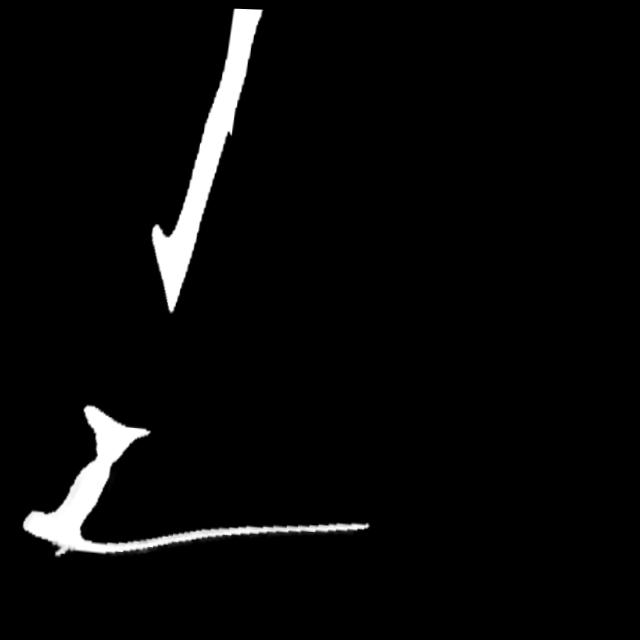sup_pli: (58, 535, 80, 563)
